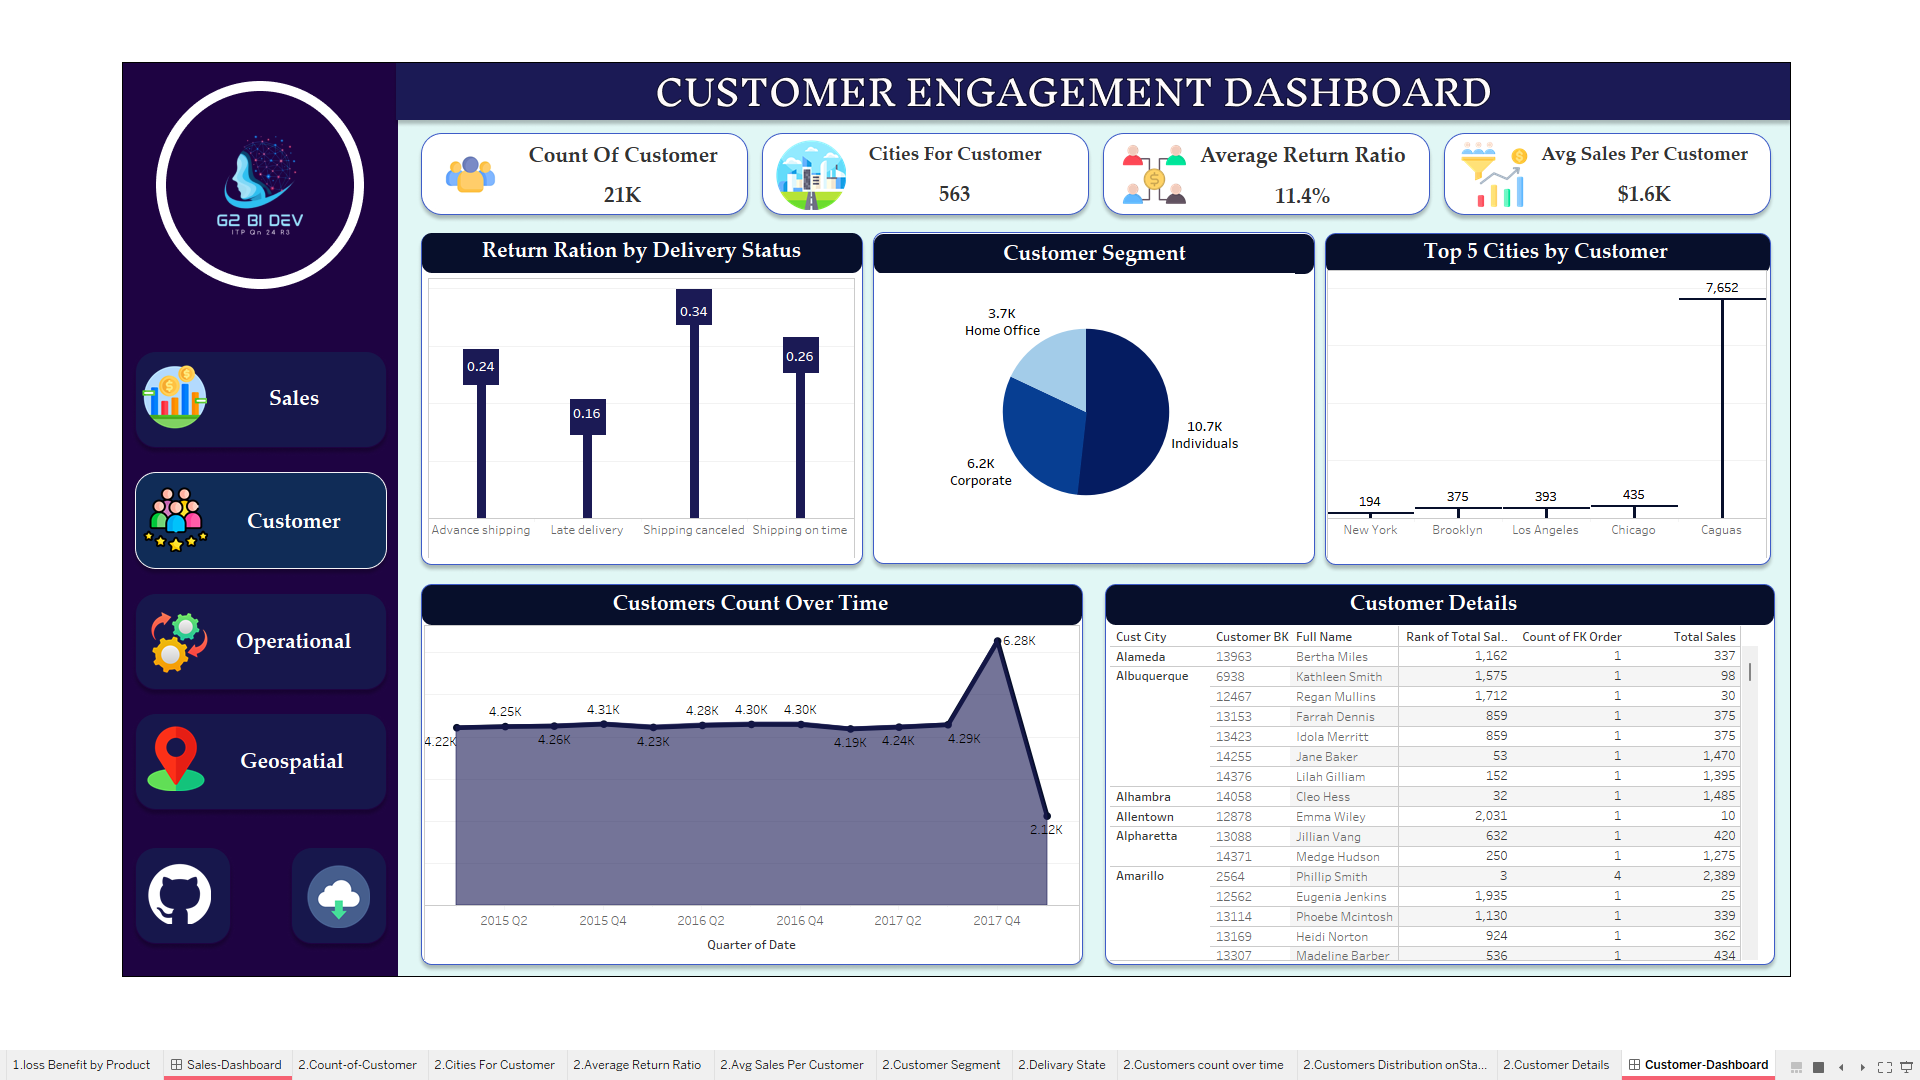

The dashboard page shown, as its layout file describes it:
{"tool":"tableau","page":{"name":"Customer-Dashboard","canvas":[1700,950],"ordinal":0},"visuals":[{"type":"image","param":"C:/Users/mahmo/OneDrive/Desktop/Sales/background/New folder (2)/Customer.png","box":[8,8,1684,934]},{"type":"image","param":"C:/Users/mahmo/OneDrive/Desktop/Sales-project/ICONS/count of customer.png","box":[325,84,70,80]},{"type":"image","param":"C:/Users/mahmo/OneDrive/Desktop/Sales-project/ICONS/Customer-ratio.jpg","box":[1009,84,70,80]},{"type":"image","param":"C:/Users/mahmo/OneDrive/Desktop/Sales-project/ICONS/avg-sales-per-customer.png","box":[1349,84,70,80]},{"type":"image","param":"C:/Users/mahmo/OneDrive/Desktop/Sales-project/ICONS/cities-for-customer.jpg","box":[666,85,70,80]},{"type":"worksheet","title":"2.Count-of-Customer","mark":"Automatic","box":[408,86,210,75]},{"type":"worksheet","title":"2.Cities For Customer","mark":"Automatic","box":[740,86,210,75]},{"type":"worksheet","title":"2.Average Return Ratio","mark":"Automatic","box":[1082,86,222,75]},{"type":"worksheet","title":"2.Avg Sales Per Customer","mark":"Automatic","box":[1421,86,227,75]},{"type":"text","box":[325,184,629,36]},{"type":"text","box":[1014,184,629,36]},{"type":"worksheet","title":"2.Customer Details","mark":"Automatic","rows":["Cust_City","Customer_BK","Calculation_1244400927322120196"],"box":[995,223,665,266]},{"type":"worksheet","title":"2.Customers Distribution onStates ","mark":"Line","rows":["Customer_BK","Customer_BK"],"cols":["Cust_City"],"box":[317,226,648,268]},{"type":"dashboard-object","box":[108,312,153,70]},{"type":"image","param":"C:/Users/mahmo/OneDrive/Desktop/Sales-project/ICONS/sales-dashboard.png","box":[30,314,70,65]},{"type":"dashboard-object","box":[108,435,153,70]},{"type":"image","param":"C:/Users/mahmo/OneDrive/Desktop/Sales-project/ICONS/customer-dashboard.png","box":[31,437,70,65]},{"type":"text","box":[1007,525,642,36]},{"type":"text","box":[326,526,294,36]},{"type":"text","box":[652,526,309,36]},{"type":"dashboard-object","box":[108,556,153,69]},{"type":"image","param":"C:/Users/mahmo/OneDrive/Desktop/Sales-project/ICONS/operational-dashboard.png","box":[34,561,70,62]},{"type":"worksheet","title":"2.Customers count over time","mark":"Automatic","rows":["Customer_BK","Customer_BK"],"cols":["Date"],"box":[649,564,314,279]},{"type":"worksheet","title":"2.Delivary State","mark":"Automatic","rows":["Calculation_1244400927306526721","Calculation_1244400927306526721"],"cols":["Delivery_Status"],"box":[1000,571,655,276]},{"type":"worksheet","title":"2.Customer Segment","mark":"Pie","box":[317,572,312,271]},{"type":"image","param":"C:/Users/mahmo/OneDrive/Desktop/Sales-project/ICONS/geo-dashboard.png","box":[31,676,70,65]},{"type":"dashboard-object","box":[108,676,153,69]},{"type":"image","param":"C:/Users/mahmo/OneDrive/Desktop/Sales-project/ICONS/github-mark-white.png","box":[38,809,63,70]},{"type":"dashboard-object","box":[197,812,63,70]},{"type":"filter","title":"2.Customers count over time","param":"[federated.0a7f3eg1xpprtt1e4fdhm1t957b5].[yr:Date:ok]","box":[1011,868,631,44]},{"type":"filter","title":"2.Customer Segment","param":"[federated.0a7f3eg1xpprtt1e4fdhm1t957b5].[none:Segment_Name:nk]","box":[329,870,623,44]}]}

Visuals, with their boxes on the page's 1700x950 design canvas (x1, y1, x2, y2). These are canvas units, not pixel positions in the 1920x1080 screenshot, which may show the page scaled, cropped or inside an application window:
image: bbox=(8, 8, 1692, 942)
image: bbox=(325, 84, 395, 164)
image: bbox=(1009, 84, 1079, 164)
image: bbox=(1349, 84, 1419, 164)
image: bbox=(666, 85, 736, 165)
"2.Count-of-Customer" worksheet: bbox=(408, 86, 618, 161)
"2.Cities For Customer" worksheet: bbox=(740, 86, 950, 161)
"2.Average Return Ratio" worksheet: bbox=(1082, 86, 1304, 161)
"2.Avg Sales Per Customer" worksheet: bbox=(1421, 86, 1648, 161)
text: bbox=(325, 184, 954, 220)
text: bbox=(1014, 184, 1643, 220)
"2.Customer Details" worksheet: bbox=(995, 223, 1660, 489)
"2.Customers Distribution onStates " worksheet (Line marks): bbox=(317, 226, 965, 494)
dashboard-object: bbox=(108, 312, 261, 382)
image: bbox=(30, 314, 100, 379)
dashboard-object: bbox=(108, 435, 261, 505)
image: bbox=(31, 437, 101, 502)
text: bbox=(1007, 525, 1649, 561)
text: bbox=(326, 526, 620, 562)
text: bbox=(652, 526, 961, 562)
dashboard-object: bbox=(108, 556, 261, 625)
image: bbox=(34, 561, 104, 623)
"2.Customers count over time" worksheet: bbox=(649, 564, 963, 843)
"2.Delivary State" worksheet: bbox=(1000, 571, 1655, 847)
"2.Customer Segment" worksheet (Pie marks): bbox=(317, 572, 629, 843)
image: bbox=(31, 676, 101, 741)
dashboard-object: bbox=(108, 676, 261, 745)
image: bbox=(38, 809, 101, 879)
dashboard-object: bbox=(197, 812, 260, 882)
"2.Customers count over time" filter: bbox=(1011, 868, 1642, 912)
"2.Customer Segment" filter: bbox=(329, 870, 952, 914)
